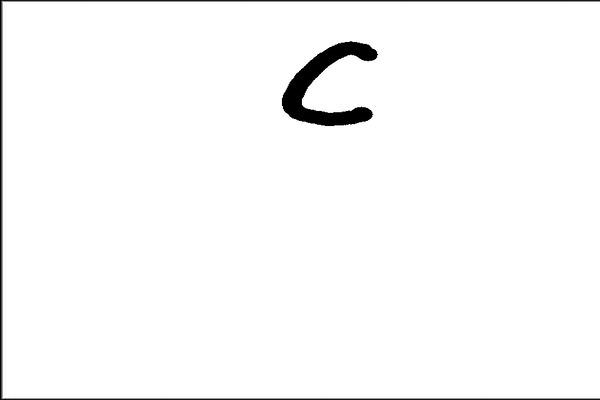C: (277, 32, 384, 130)
